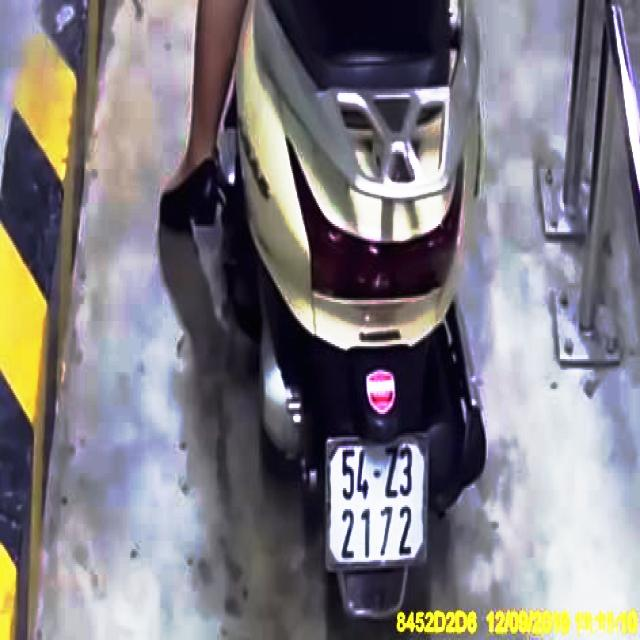license_plate: (326, 438, 430, 565)
